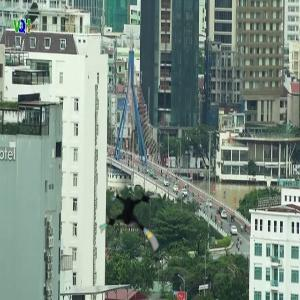drone: (96, 184, 174, 262)
